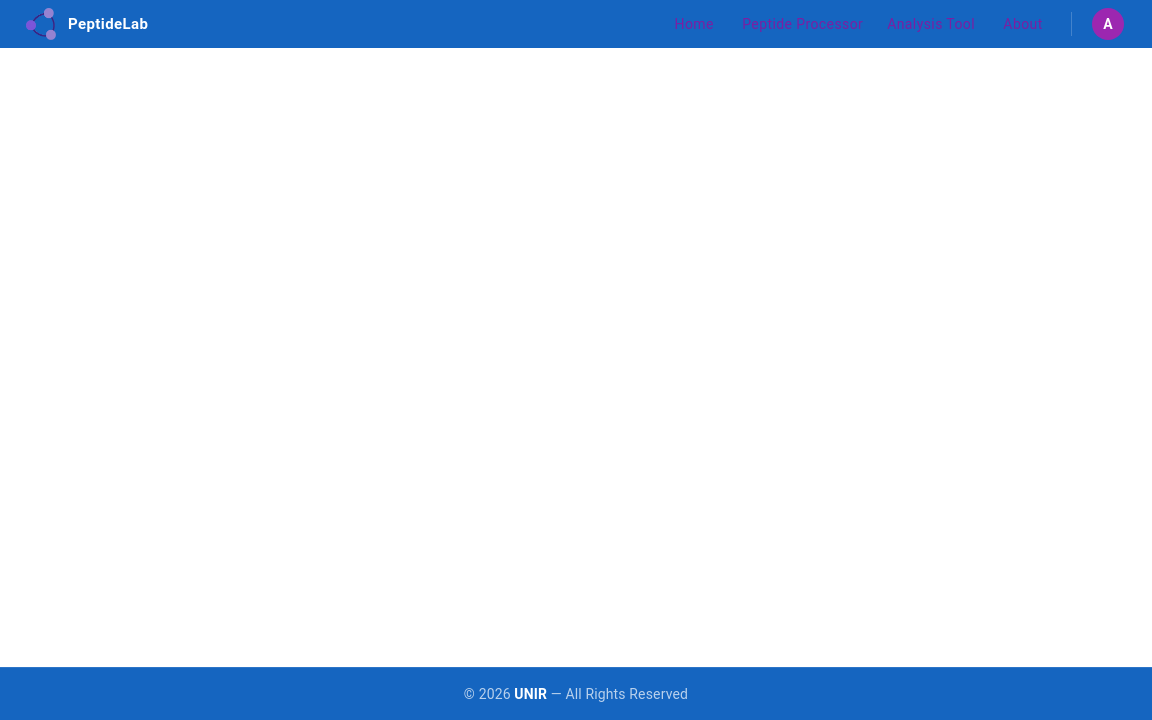
logout e desativacao com falha no servidor (I40, I46) › desativacao recusada mantem a conta e mostra o erro
The image size is (1152, 720).
Click the button titled "a@x.org". click: (1108, 24)
box: 1088,4 -> 1128,44
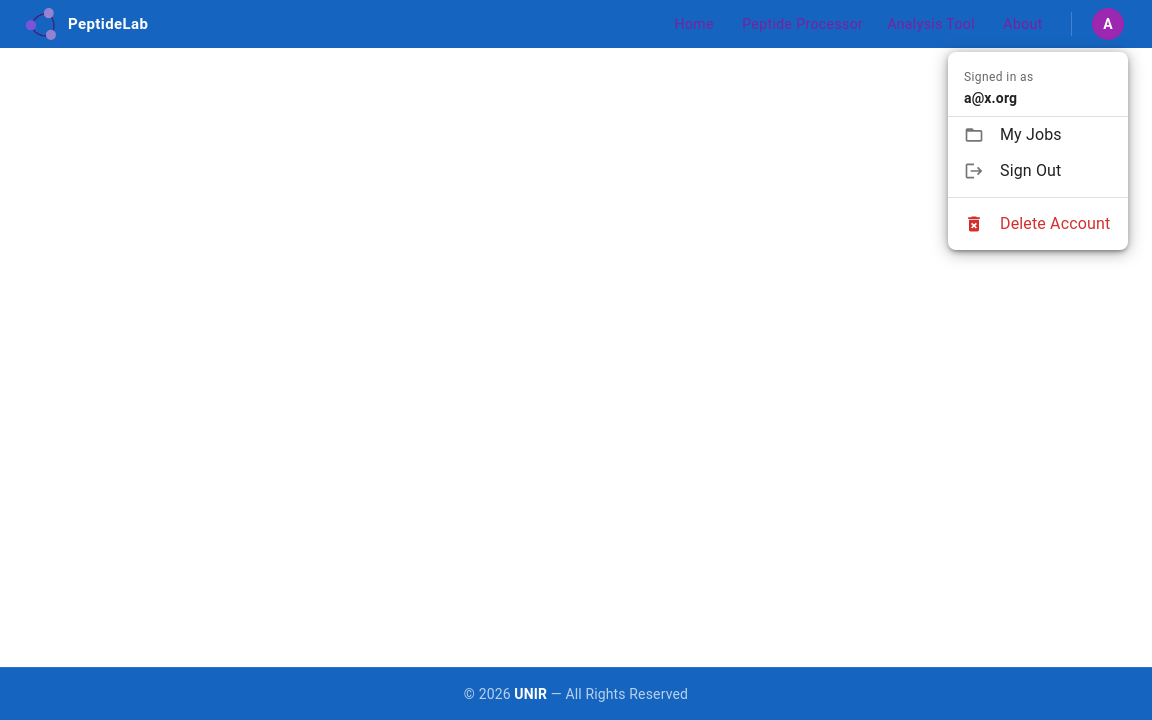
Click the menu item "Delete Account". click: (1037, 224)
box: 964,214 -> 1110,234
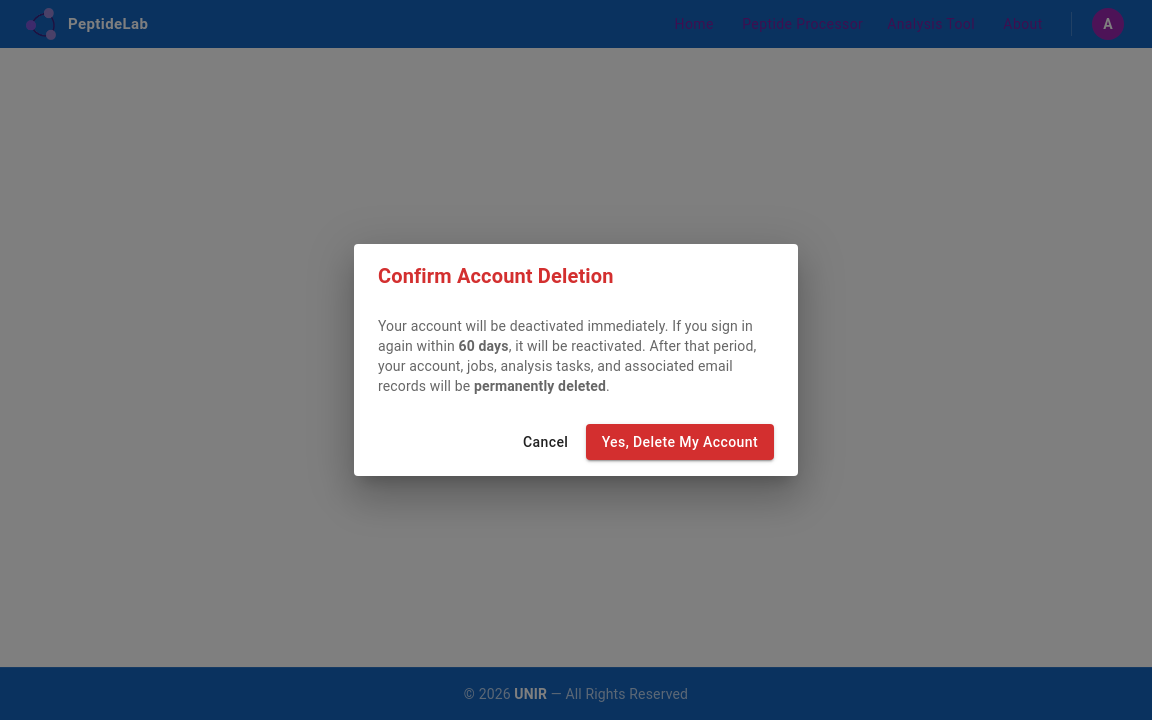
Click the button "Yes, Delete My Account". click: (680, 442)
box: 586,424 -> 774,460
(page scrolled)
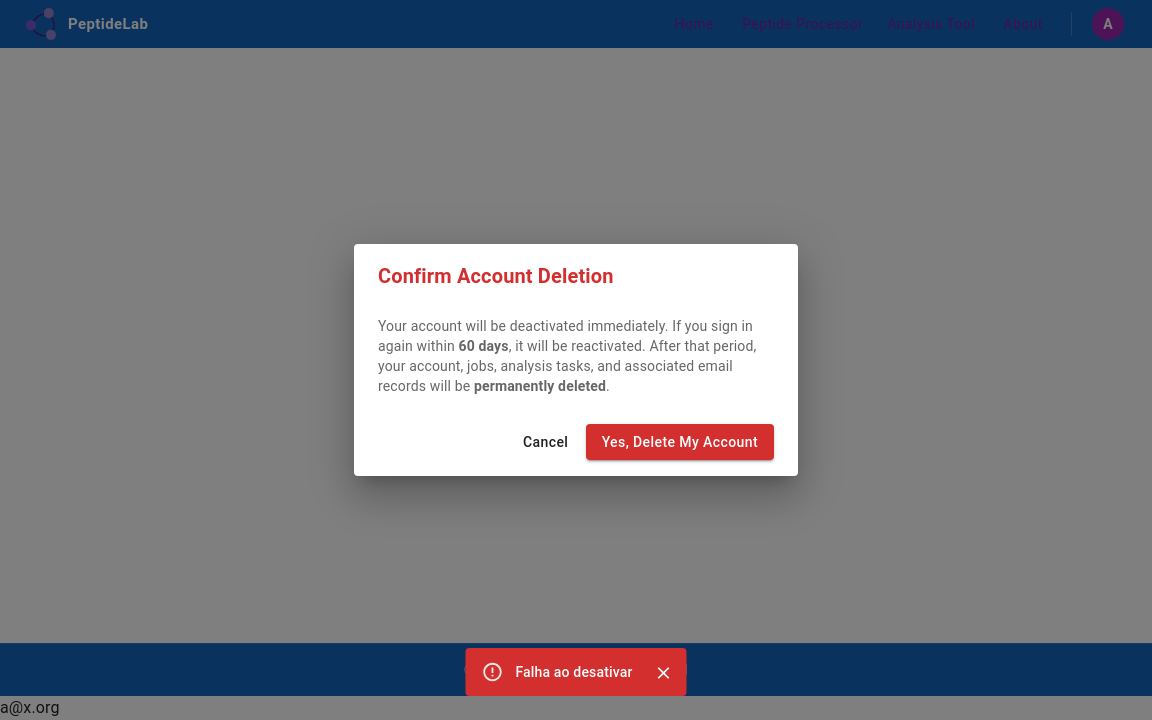
Expected: the text with test id "who" reads "a@x.org", 0,698 -> 60,717
Expected: the heading "Confirm Account Deletion" is shown, 378,264 -> 614,288
Expected: the text "Falha ao desativar" is shown, 516,664 -> 632,680
